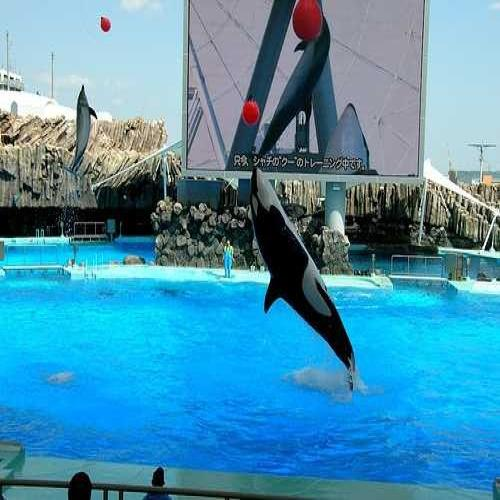killer_whale-endangered: (239, 143, 364, 394), (64, 79, 104, 178)
